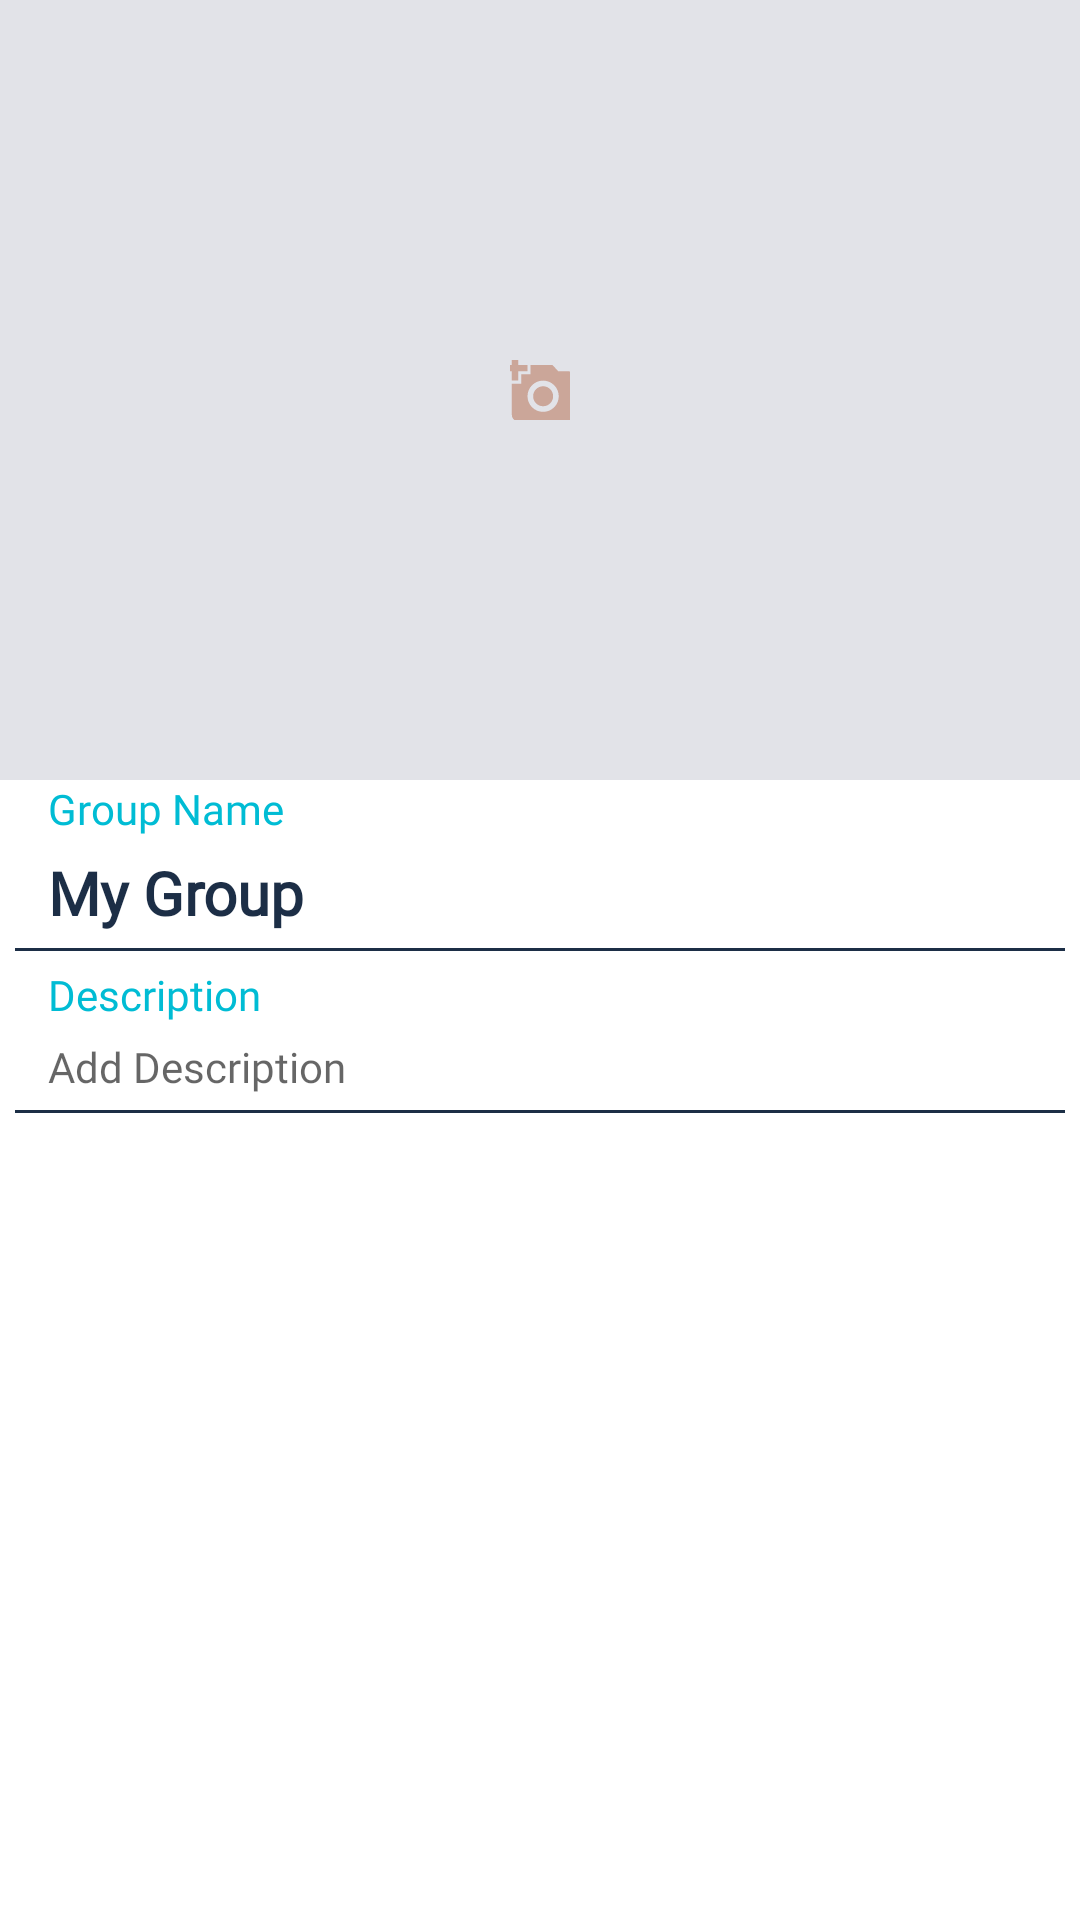

Icons on this 1080 × 1920 Android screen, each with the point to tap as [x,y]:
add: [540,390]
